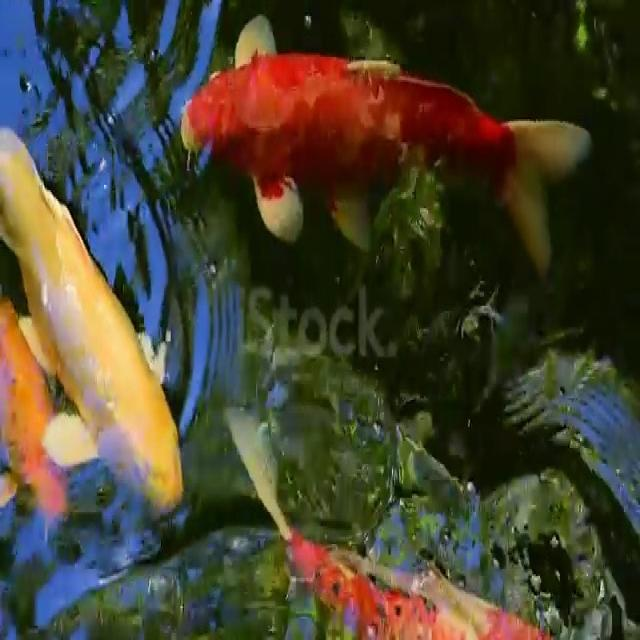fish: (178, 13, 586, 280), (0, 136, 205, 505), (234, 408, 554, 634), (0, 295, 80, 525)
